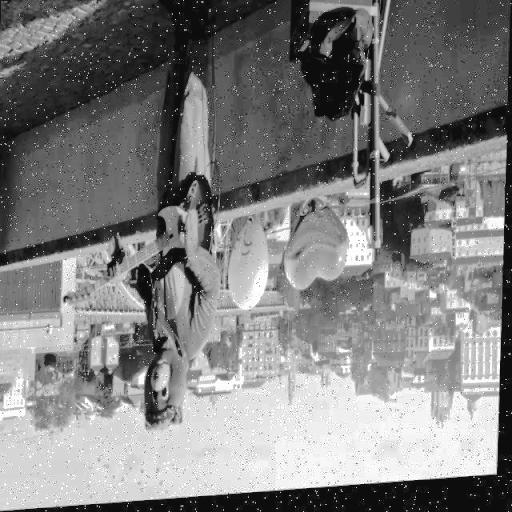balloon: (281, 201, 354, 295), (228, 220, 271, 314)
